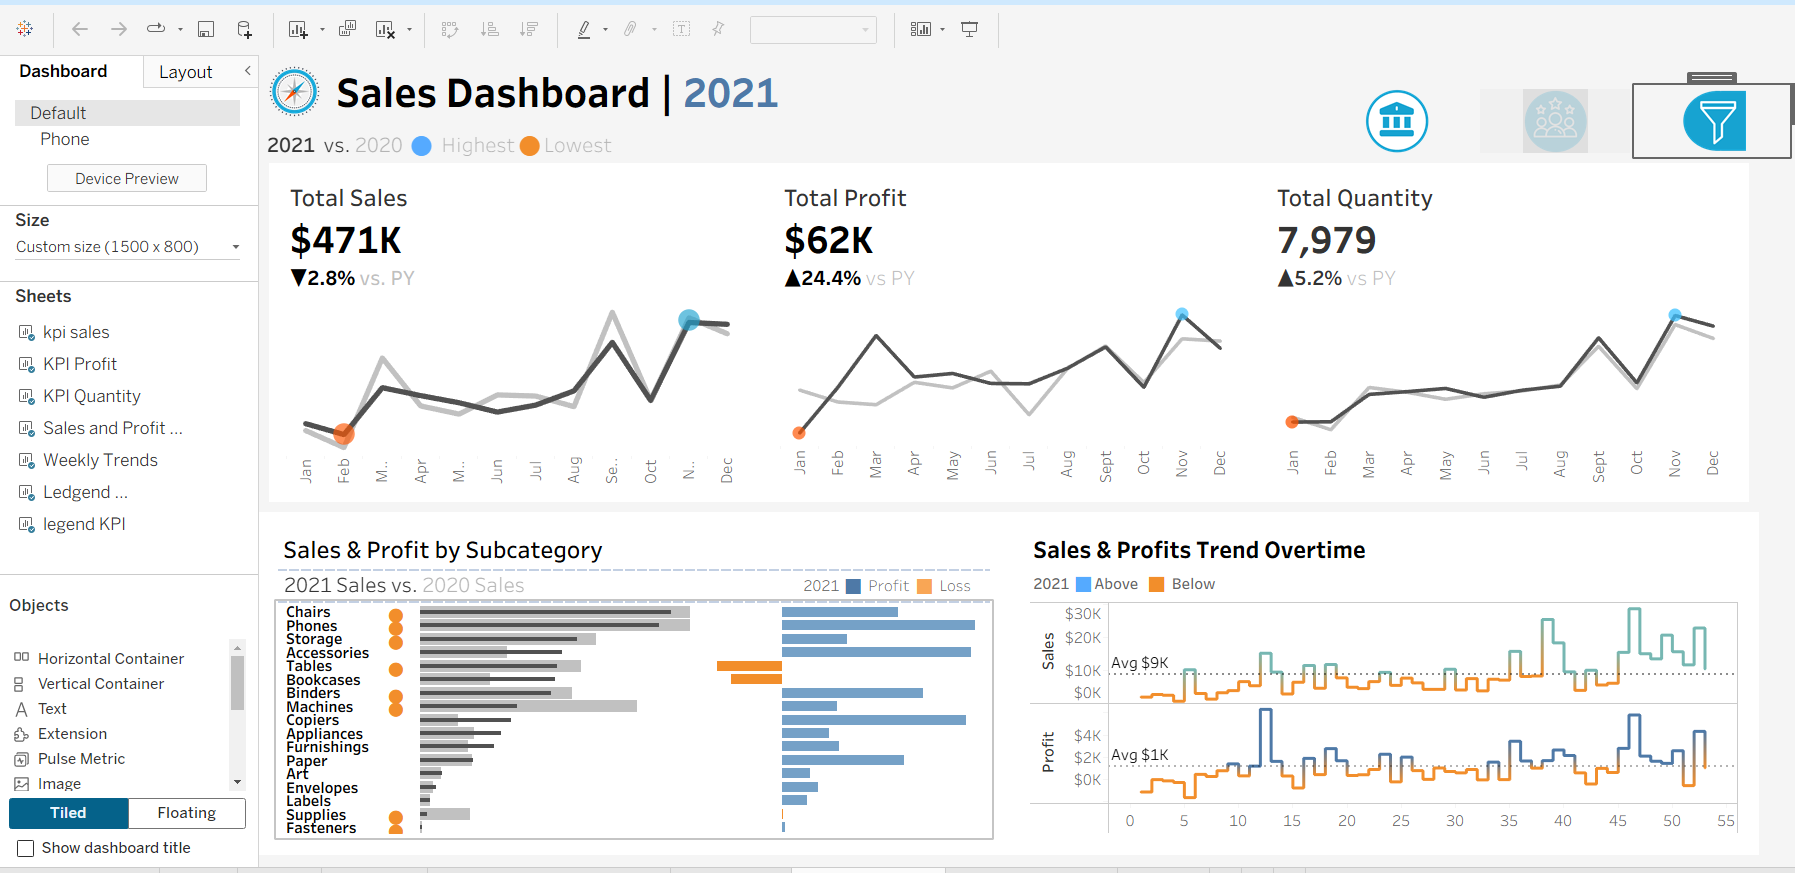

What the dashboard file says about the page in this screenshot:
{"tool":"tableau","page":{"name":"Sales Dashboard","canvas":[1500,800],"ordinal":0},"visuals":[{"type":"image","param":"Image/Icon - Logo.png","box":[0,0,70,72]},{"type":"text","box":[70,0,956,72]},{"type":"text","box":[1300,13,193,100]},{"type":"dashboard-object","box":[1059,30,158,72]},{"type":"dashboard-object","box":[1217,30,158,72]},{"type":"worksheet","title":"legend KPI","mark":"Automatic","box":[0,72,1500,36]},{"type":"text","box":[1300,113,193,40]},{"type":"worksheet","title":"kpi sales","mark":"Line","rows":["Calculation_645140665114365956"],"cols":["Order Date"],"box":[10,115,494,332]},{"type":"worksheet","title":"KPI Profit","mark":"Line","rows":["Calculation_823877275433467909"],"cols":["Order Date"],"box":[504,115,493,332]},{"type":"worksheet","title":"KPI Quantity","mark":"Automatic","rows":["Calculation_823877275445047313"],"cols":["Order Date"],"box":[997,115,493,332]},{"type":"parameter","param":"[Parameters].[Parameter 1]","box":[1300,153,193,88]},{"type":"text","box":[1300,241,193,56]},{"type":"text","box":[1300,297,193,29]},{"type":"filter","title":"kpi sales","param":"[federated.04wca9k0sm0pfw14cb2yz075lecm].[none:Category:nk]","box":[1300,326,193,61]},{"type":"filter","title":"kpi sales","param":"[federated.04wca9k0sm0pfw14cb2yz075lecm].[none:Sub-Category:nk]","box":[1300,387,193,61]},{"type":"text","box":[1300,448,193,56]},{"type":"text","box":[17,474,716,40]},{"type":"text","box":[767,474,716,40]},{"type":"text","box":[1300,504,193,29]},{"type":"worksheet","title":"Ledgend Subcategory","mark":"Automatic","box":[17,514,520,32]},{"type":"text","box":[537,514,196,32]},{"type":"text","box":[767,514,716,29]},{"type":"filter","title":"kpi sales","param":"[federated.04wca9k0sm0pfw14cb2yz075lecm].[none:Country/Region:nk]","box":[1300,533,193,61]},{"type":"worksheet","title":"Weekly Trends","mark":"Automatic","rows":["Calculation_645140665101033472","Calculation_823877275426582530"],"cols":["Order Date"],"box":[767,543,716,240]},{"type":"worksheet","title":"Sales and Profit by subcategory","mark":"Bar","rows":["Sub-Category","Calculation_823877275461861394"],"cols":["Calculation_645140665102254081","Calculation_645140665101033472","Calculation_823877275426582530"],"box":[17,546,716,236.9]},{"type":"filter","title":"kpi sales","param":"[federated.04wca9k0sm0pfw14cb2yz075lecm].[none:Region:nk]","box":[1300,594,193,61]},{"type":"filter","title":"kpi sales","param":"[federated.04wca9k0sm0pfw14cb2yz075lecm].[none:State:nk]","box":[1300,655,193,61]},{"type":"filter","title":"kpi sales","param":"[federated.04wca9k0sm0pfw14cb2yz075lecm].[none:City:nk]","box":[1300,716,193,61]}]}

Visuals, with their boxes on the page's 1500x800 design canvas (x1, y1, x2, y2). These are canvas units, not pixel positions in the 1795x873 screenshot, which may show the page scaled, cropped or inside an application window:
image: l=0, t=0, r=70, b=72
text: l=70, t=0, r=1026, b=72
text: l=1300, t=13, r=1493, b=113
dashboard-object: l=1059, t=30, r=1217, b=102
dashboard-object: l=1217, t=30, r=1375, b=102
"legend KPI" worksheet: l=0, t=72, r=1500, b=108
text: l=1300, t=113, r=1493, b=153
"kpi sales" worksheet (Line marks): l=10, t=115, r=504, b=447
"KPI Profit" worksheet (Line marks): l=504, t=115, r=997, b=447
"KPI Quantity" worksheet: l=997, t=115, r=1490, b=447
parameter: l=1300, t=153, r=1493, b=241
text: l=1300, t=241, r=1493, b=297
text: l=1300, t=297, r=1493, b=326
"kpi sales" filter: l=1300, t=326, r=1493, b=387
"kpi sales" filter: l=1300, t=387, r=1493, b=448
text: l=1300, t=448, r=1493, b=504
text: l=17, t=474, r=733, b=514
text: l=767, t=474, r=1483, b=514
text: l=1300, t=504, r=1493, b=533
"Ledgend Subcategory" worksheet: l=17, t=514, r=537, b=546
text: l=537, t=514, r=733, b=546
text: l=767, t=514, r=1483, b=543
"kpi sales" filter: l=1300, t=533, r=1493, b=594
"Weekly Trends" worksheet: l=767, t=543, r=1483, b=783
"Sales and Profit by subcategory" worksheet (Bar marks): l=17, t=546, r=733, b=783
"kpi sales" filter: l=1300, t=594, r=1493, b=655
"kpi sales" filter: l=1300, t=655, r=1493, b=716
"kpi sales" filter: l=1300, t=716, r=1493, b=777
